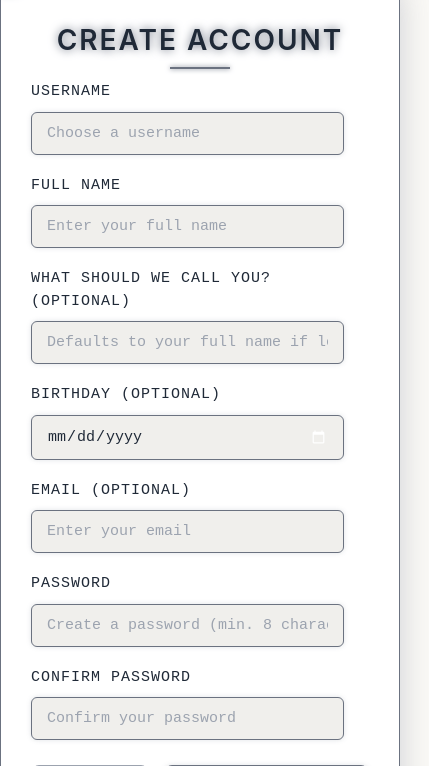
Scenario: RegisterForm › Error Handling › should display error message from API response
This screenshot has width=429, height=766.
Step 1. Type "testuser" into the field labelled "Username" → (188, 133), box [31, 112, 344, 154]
Step 2. Type "Test User Full Name" into the field labelled "Full Name" → (188, 226), box [31, 205, 344, 248]
Step 3. Type "Test Preferred Name" into the field labelled "What should we call you? (optional)" → (188, 342), box [31, 321, 344, 364]
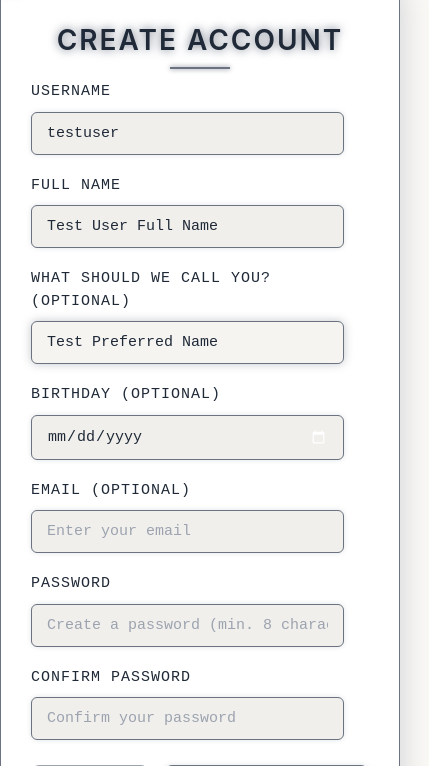
Step 4. Type "1990-01-01" into the date field labelled "Birthday (optional)" → (188, 437), box [31, 414, 344, 460]
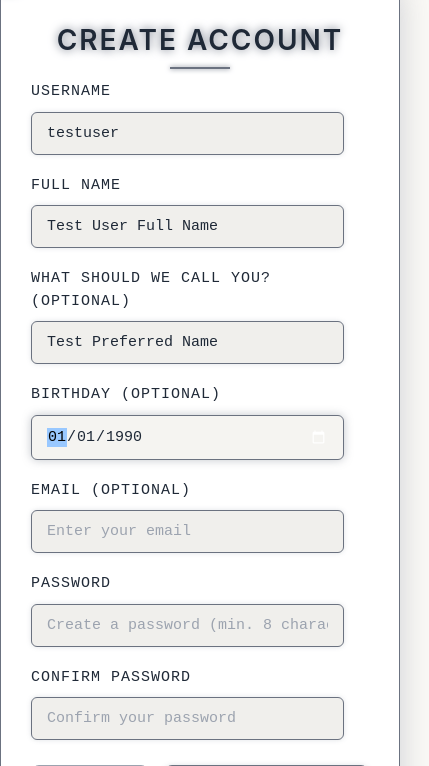
Step 5. Type "valid@example.com" into the field labelled "Email (optional)" → (188, 532), box [31, 510, 344, 553]
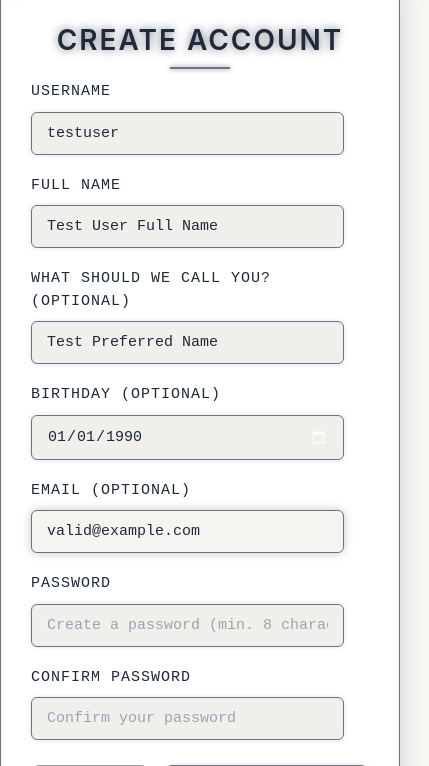
Step 6. Type "password123" into the password field labelled "Password" → (188, 625), box [31, 604, 344, 646]
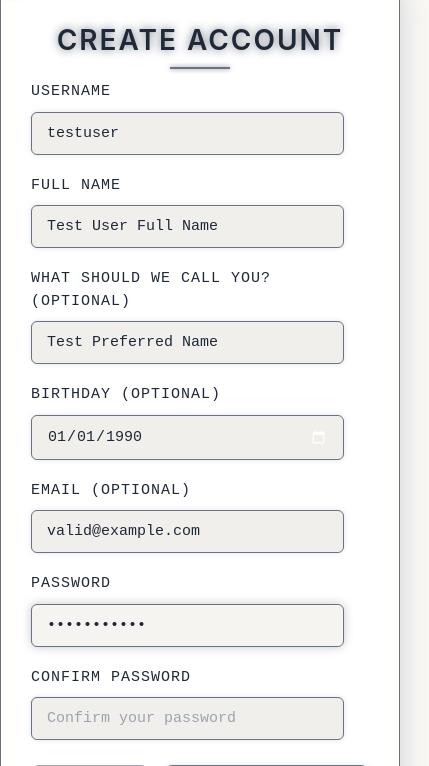
Step 7. Type "password123" into the password field labelled "Confirm Password" → (188, 718), box [31, 697, 344, 740]
(page scrolled)
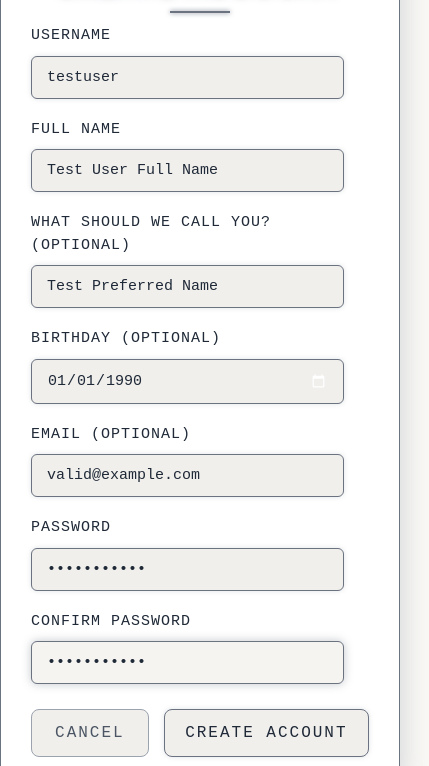
Step 8. Click the button "Create Account" → (266, 733), box [164, 709, 369, 757]
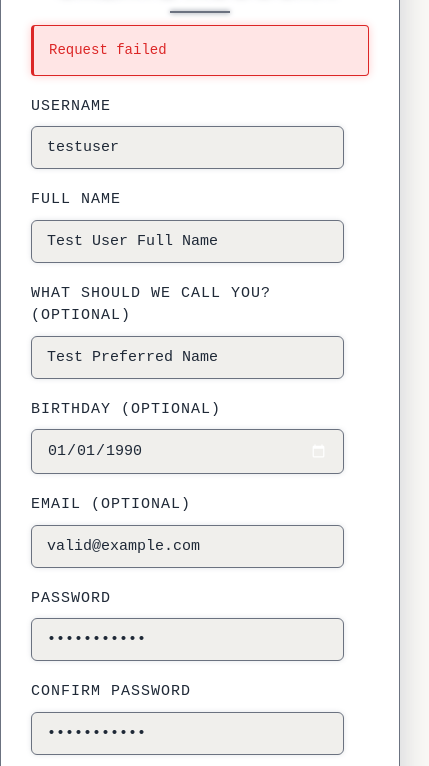
expect the text "Request failed" is shown: met, box [31, 25, 369, 76]
